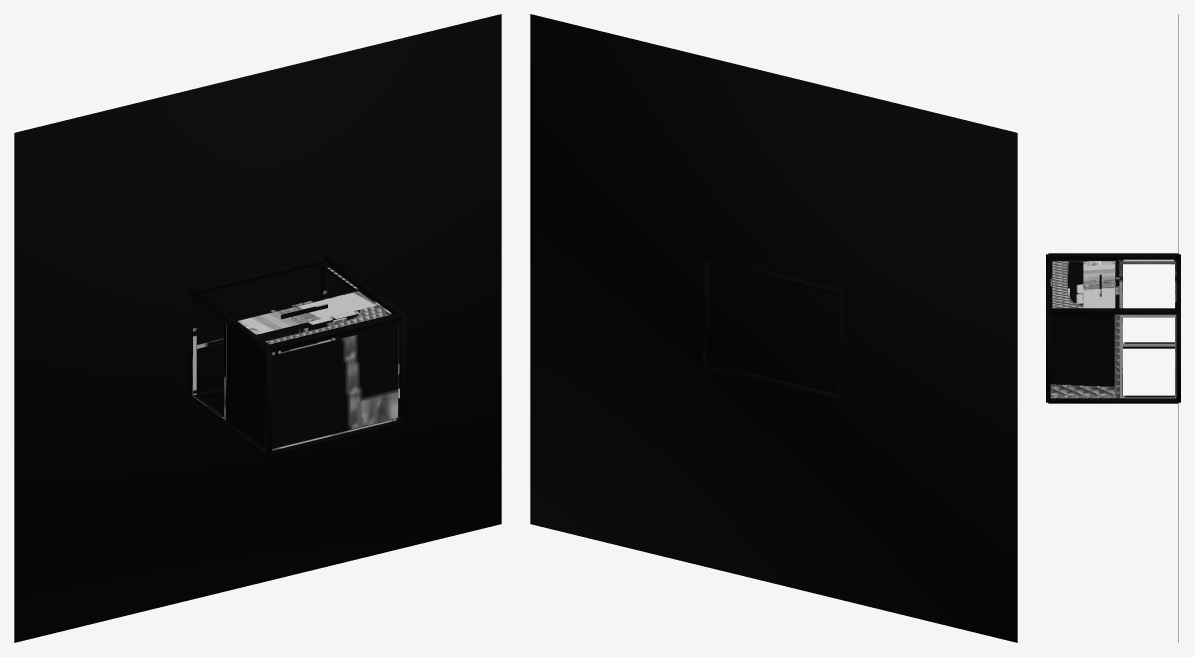
3 views of the same model, side by side, from view 1: azimuth 30°, elevation 25°; view 2: azimuth 150°, elevation 25°; view 3: azimuth 270°, elevation 25° (orthographic). The views are drawn at different scales.
Bounding box in the file's own units: 2 × 2 × 0.57.
